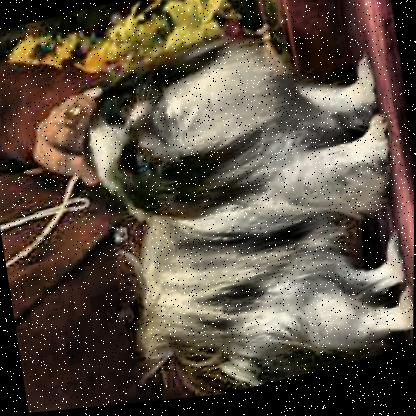dog: (73, 22, 295, 250)
